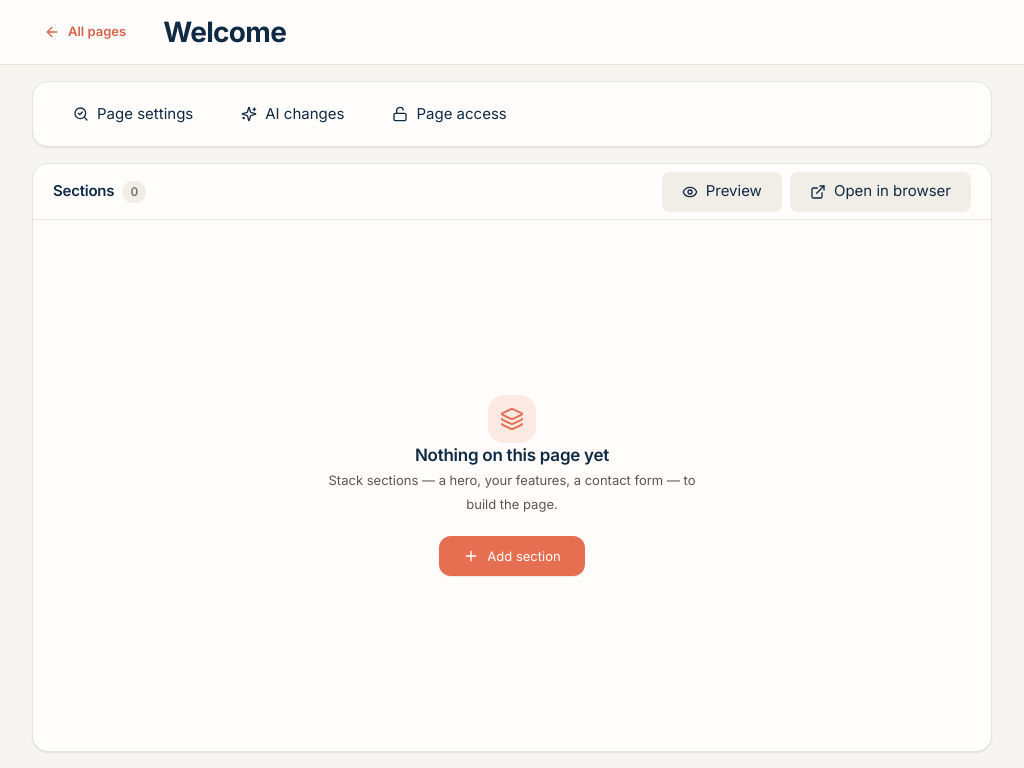
it: search and sharing details › a server refusal keeps the entered details visible with its reason
The image size is (1024, 768).
Step 1. Click the button "Page settings" → (133, 114), box [53,94,213,134]
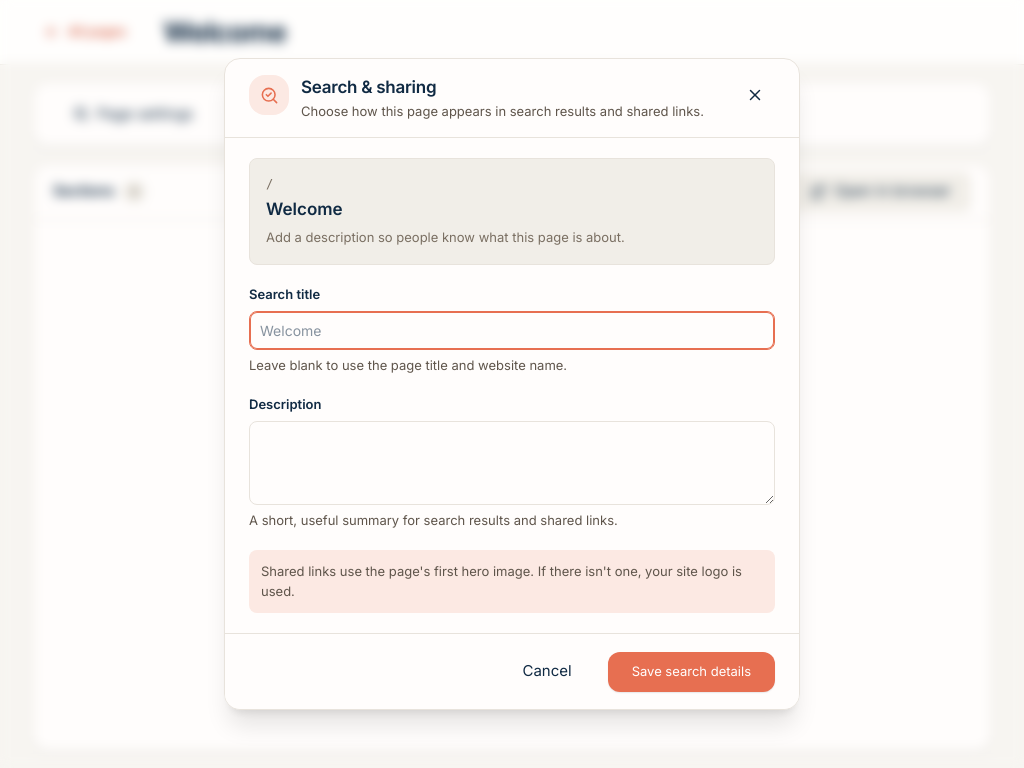
Step 2. Type "A title the server refuses" into the field labelled "Search title" → (512, 330), box [249,311,775,350]
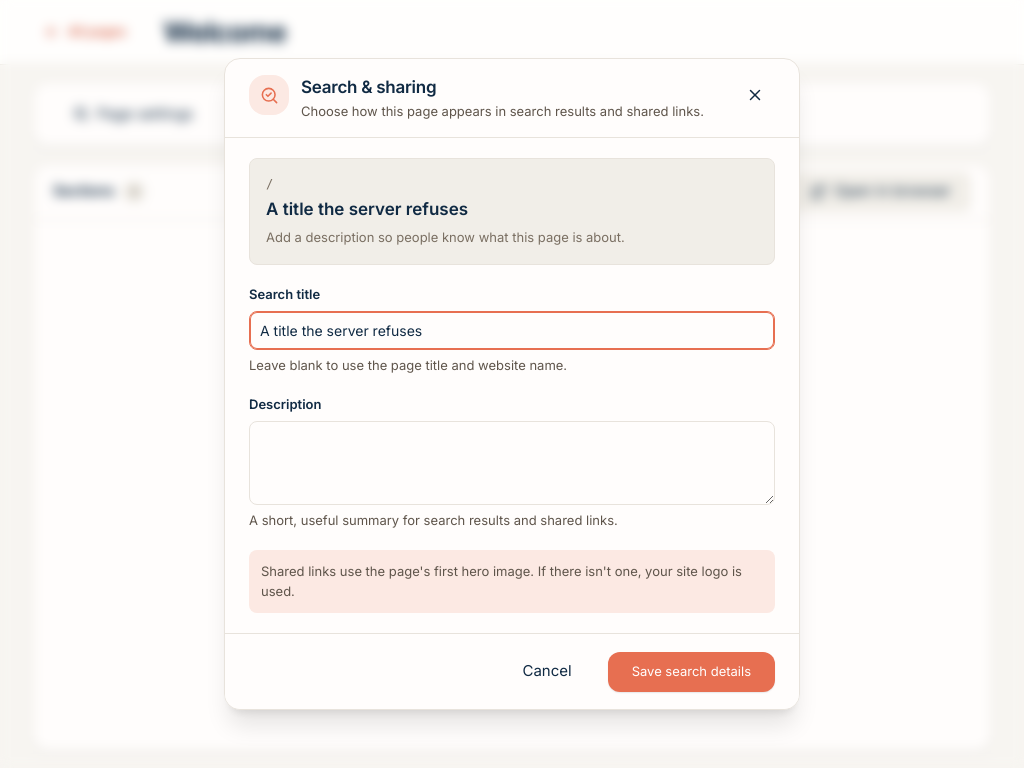
Step 3. Click the button "Save search details" → (691, 672), box [608,652,775,692]
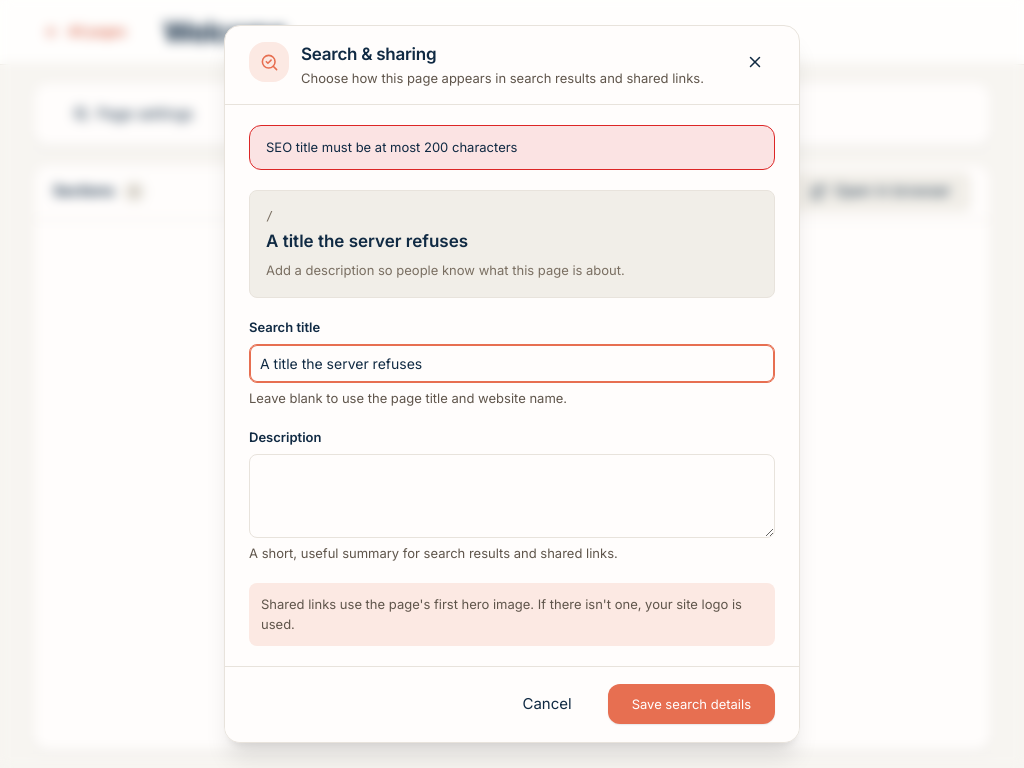
Check: the dialog is shown, box [224,26,800,743]
Check: the text "SEO title must be at most 200 characters" is shown, box [249,125,775,170]
